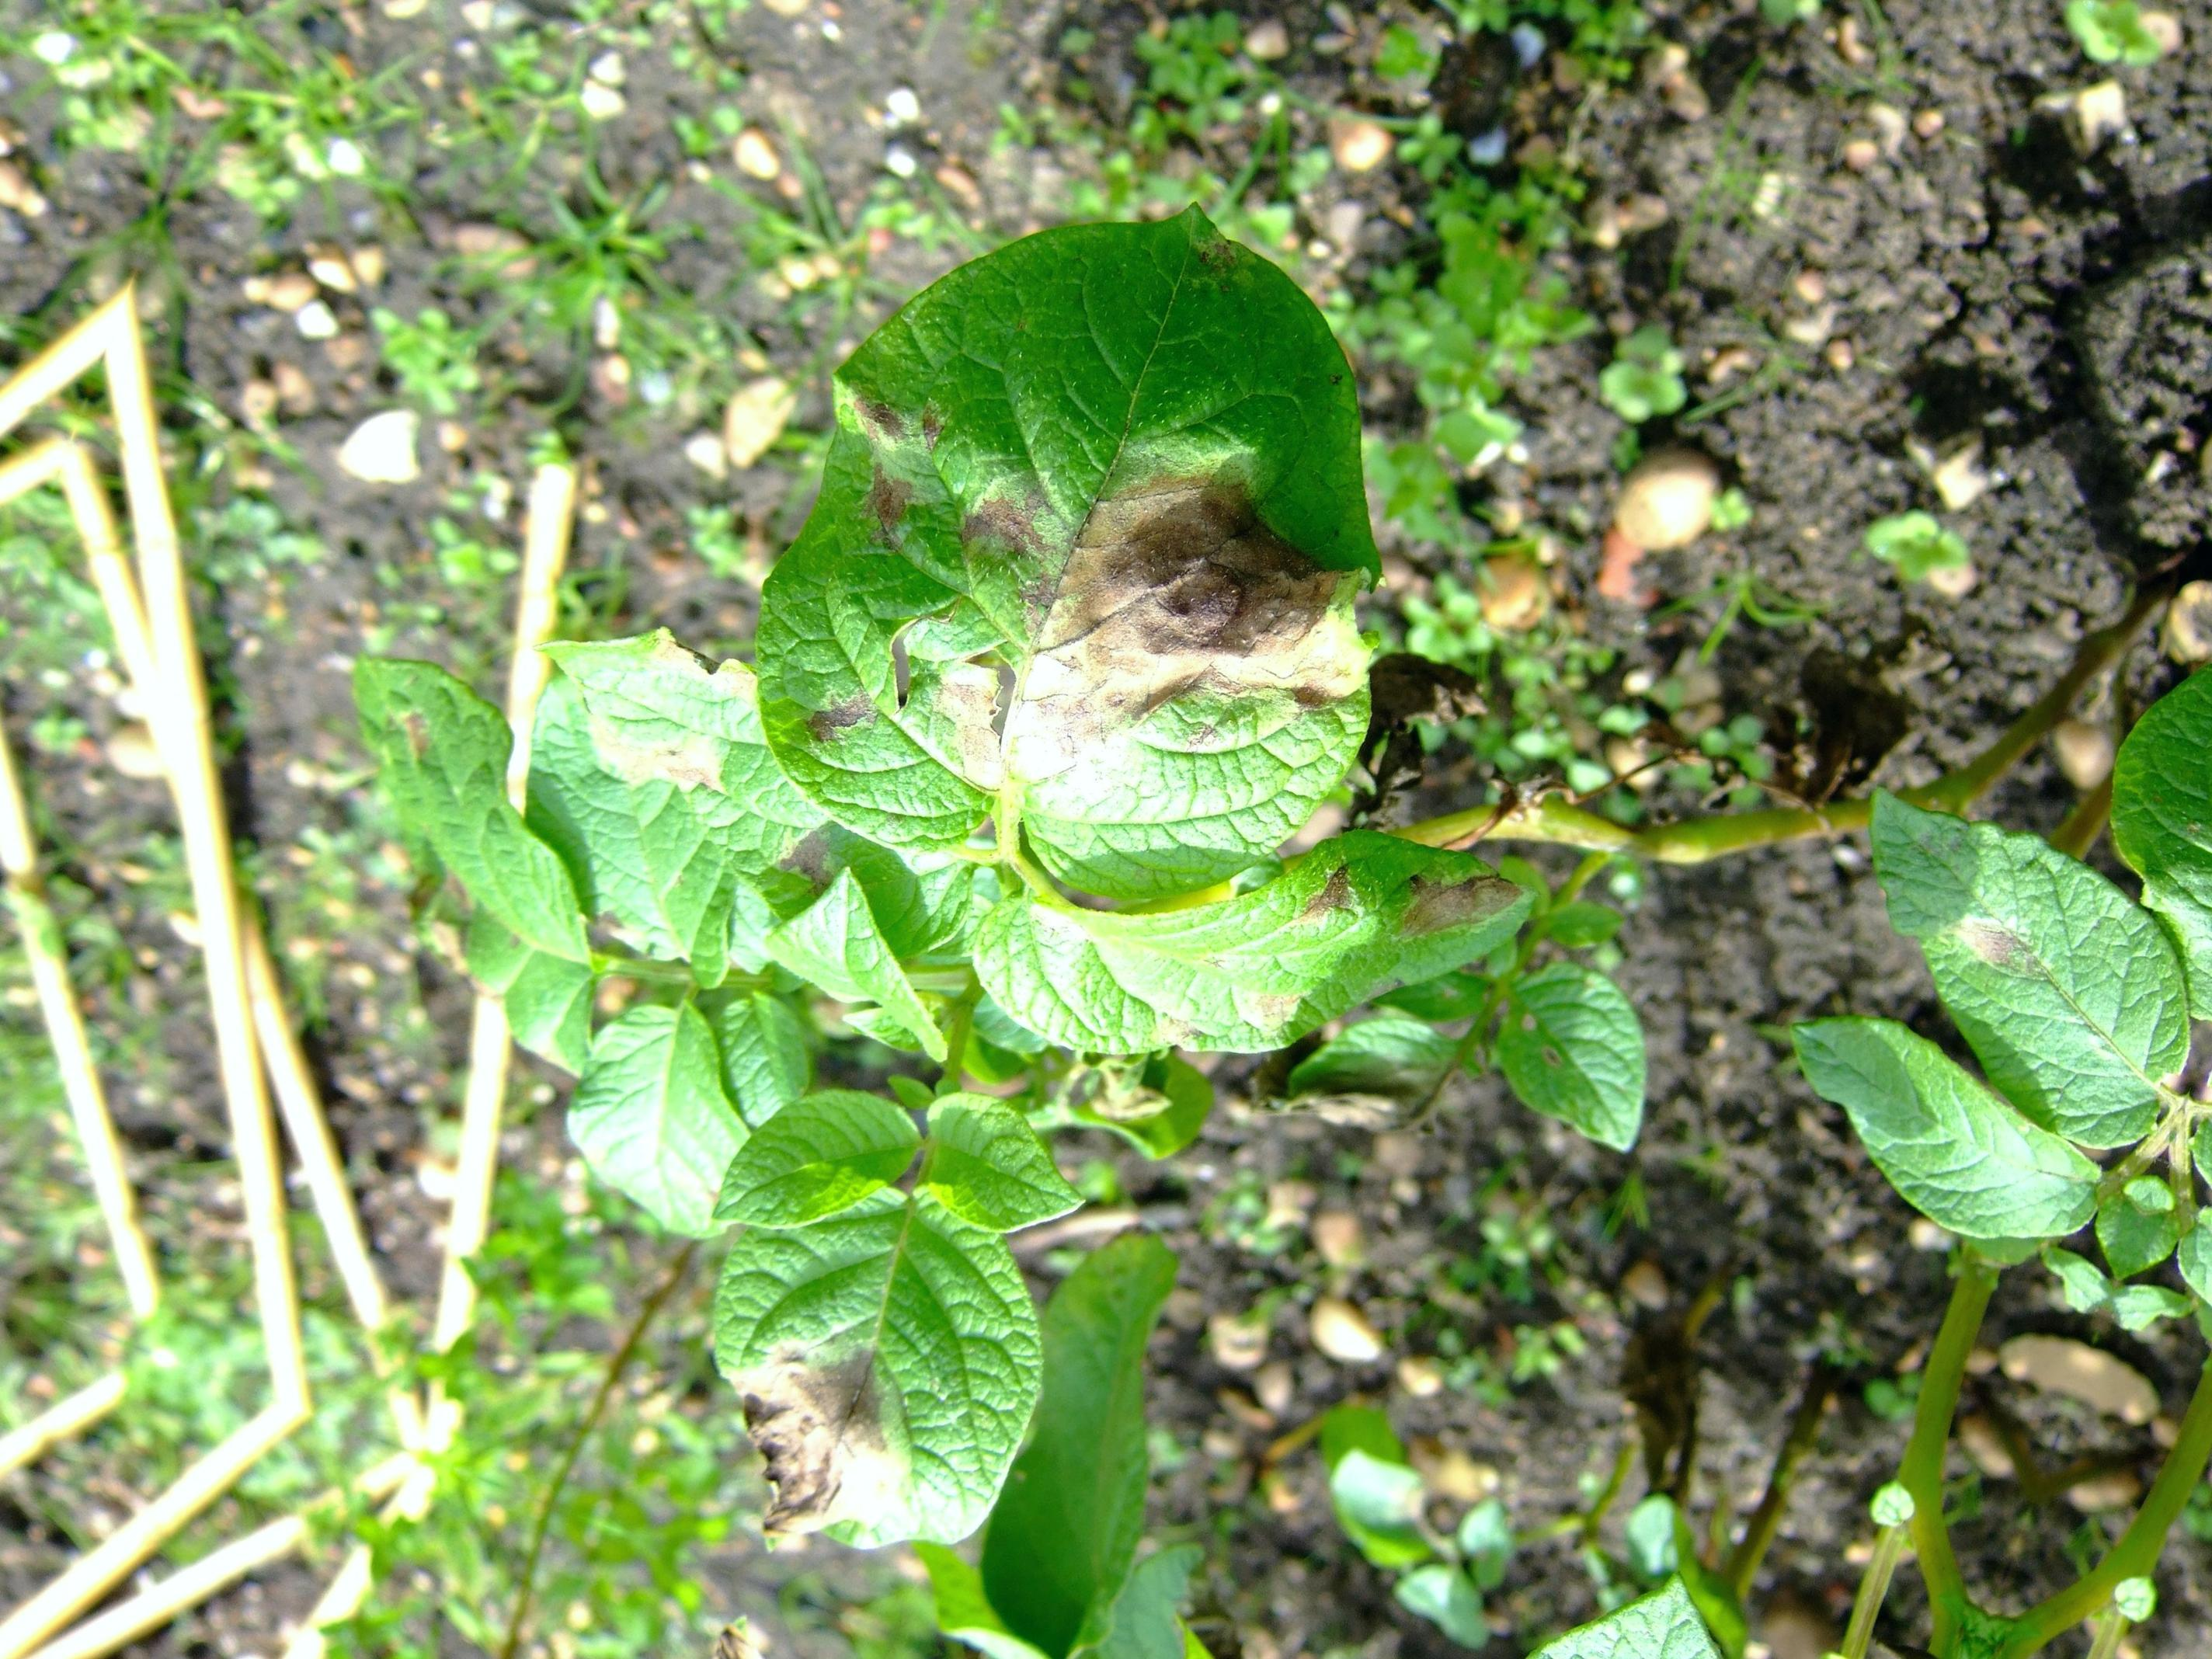Tomato leaf late blight: (657, 129, 1507, 985)
